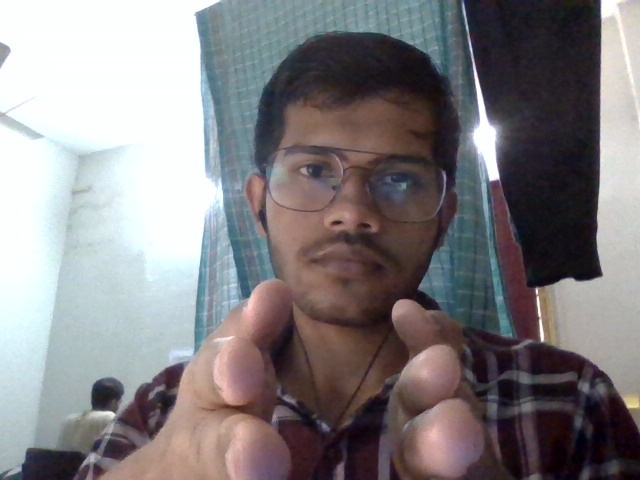ThankYou: (188, 273, 499, 480)
